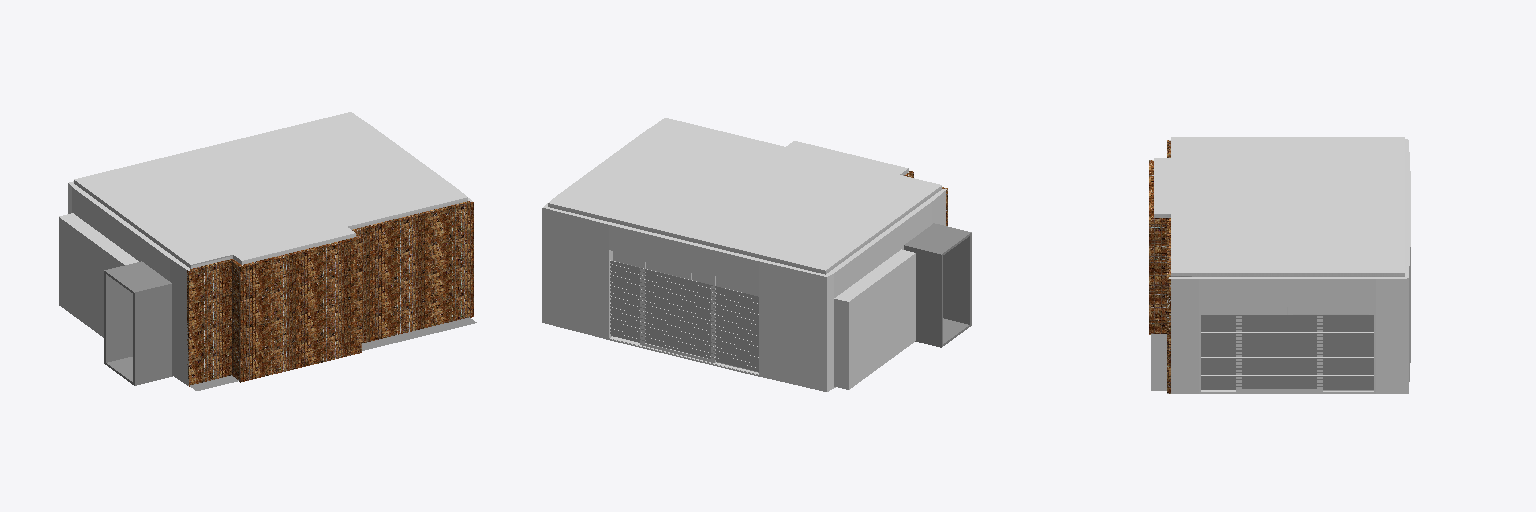
3 renders of one model, left to right at view 1: azimuth 30°, elevation 25°; view 2: azimuth 150°, elevation 25°; view 3: azimuth 270°, elevation 25°, orthographic.
Parts seen in each view (by area): view 1: Plane.196_Plane.000, Plane.195_Plane.000_Plane.195_Plane.004, Plane.195_Plane.000, Plane.195_Plane.002, ground_Plane.000; view 2: Plane.195_Plane.000, Plane.196_Plane.000, Plane.195_Plane.023, Plane.195_Plane.002; view 3: Plane.196_Plane.000, Plane.195_Plane.000, Plane.195_Plane.023, Plane.195_Plane.000_Plane.195_Plane.004, ground_Plane.000.
Boxes of the visible parts, <box> form: Plane.196_Plane.000: <box>74,112,467,268</box>; Plane.195_Plane.000_Plane.195_Plane.004: <box>187,201,473,386</box>; Plane.195_Plane.000: <box>59,118,472,385</box>; Plane.195_Plane.002: <box>104,261,172,385</box>; ground_Plane.000: <box>188,317,476,390</box>; Plane.195_Plane.000: <box>542,126,946,391</box>; Plane.196_Plane.000: <box>548,118,941,274</box>; Plane.195_Plane.023: <box>610,260,758,371</box>; Plane.195_Plane.002: <box>904,223,971,347</box>; Plane.196_Plane.000: <box>1154,137,1404,276</box>; Plane.195_Plane.000: <box>1167,139,1410,393</box>; Plane.195_Plane.023: <box>1201,315,1373,389</box>; Plane.195_Plane.000_Plane.195_Plane.004: <box>1149,140,1170,393</box>; ground_Plane.000: <box>1151,307,1368,390</box>.
Size of the model in its own units: 78.7 by 27.83 by 54.73.
9 materials, 3 textured.